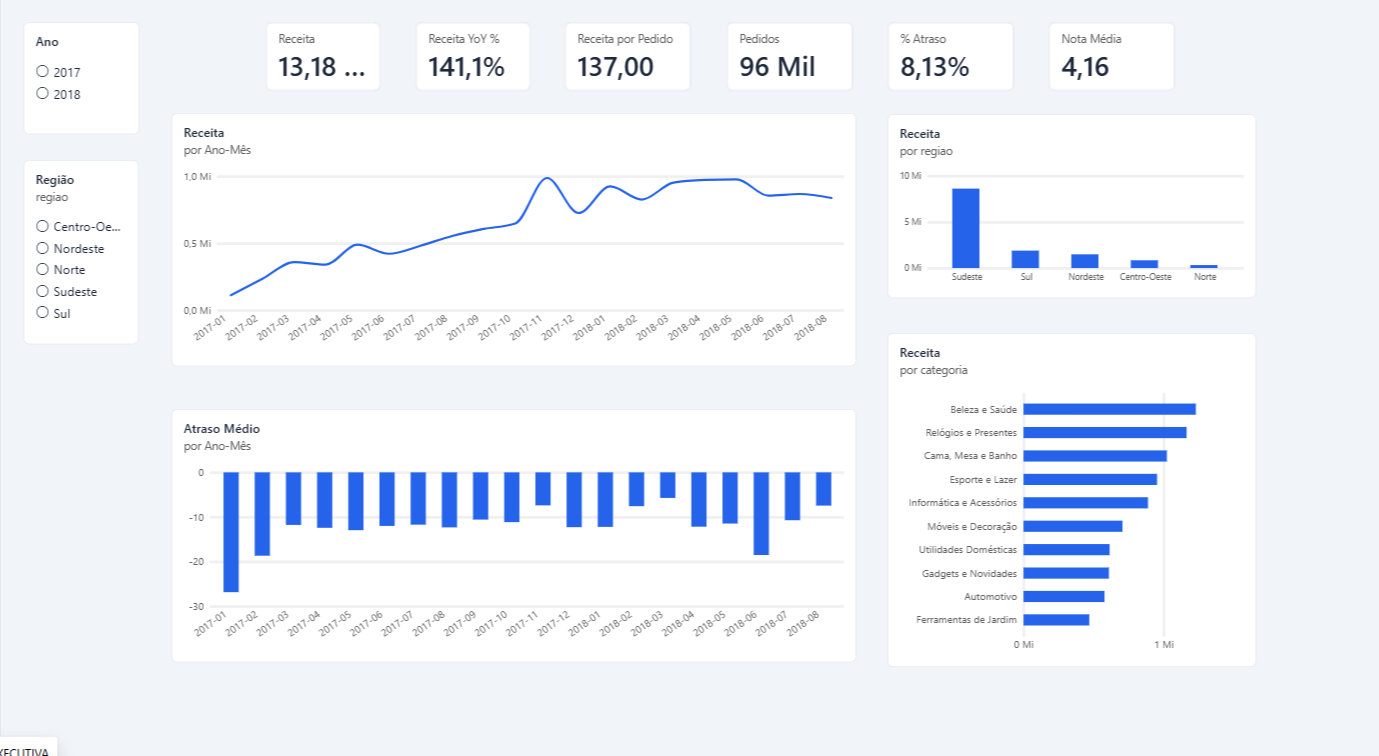

What the dashboard file says about the page in this screenshot:
{"tool":"powerbi","page":{"name":"VISÃO EXECUTIVA","canvas":[1920,1080],"ordinal":0},"visuals":[{"type":"cardVisual","title":"Receita","fields":{"Data":["_Medidas.Receita"]},"box":[368,48,160,96],"z":0},{"type":"cardVisual","title":"Pedidos","fields":{"Data":["_Medidas.Pedidos"]},"box":[1008,48,176,96],"z":1000},{"type":"lineChart","fields":{"Category":["dim_calendario.Ano-Mês"],"Y":["_Medidas.Receita"]},"box":[237.5,175.2,951.3,351.9],"z":2000},{"type":"barChart","fields":{"Category":["dim_produtos.categoria"],"Y":["_Medidas.Receita"]},"box":[1232,480,512,464],"z":3000},{"type":"columnChart","fields":{"Category":["dim_calendario.Ano-Mês"],"Y":["_Medidas.Atraso Médio"]},"box":[237.5,586.4,951.3,351.9],"z":4000},{"type":"cardVisual","title":"% Atrasados","fields":{"Data":["_Medidas.% Pedidos Atrasados"]},"box":[1232,48,176,96],"z":5000},{"type":"columnChart","fields":{"Category":["dim_uf.regiao"],"Y":["_Medidas.Receita"]},"box":[1232,176,512,256],"z":6000},{"type":"listSlicer","fields":{"Values":["dim_calendario.Ano"]},"box":[32,48,160.7,156.4],"z":7000},{"type":"listSlicer","title":"Região","fields":{"Values":["dim_uf.regiao"]},"box":[32,240,160,256],"z":8000},{"type":"cardVisual","title":"Crescimento da Receita","fields":{"Data":["_Medidas.Receita YoY %"]},"box":[576,48,160,96],"z":9000},{"type":"cardVisual","title":"Nota Média","fields":{"Data":["_Medidas.Nota Média"]},"box":[1456,48,176,96],"z":10000},{"type":"cardVisual","fields":{"Data":["_Medidas.Receita por Pedido"]},"box":[784,48,176,96],"z":11000}]}

Visuals, with their boxes on the page's 1920x1080 design canvas (x1, y1, x2, y2). These are canvas units, not pixel positions in the 1379x756 screenshot, which may show the page scaled, cropped or inside an application window:
"Receita" cardVisual: 368:48:528:144
"Pedidos" cardVisual: 1008:48:1184:144
lineChart - dim_calendario.Ano-Mês x _Medidas.Receita: 238:175:1189:527
barChart - dim_produtos.categoria x _Medidas.Receita: 1232:480:1744:944
columnChart - dim_calendario.Ano-Mês x _Medidas.Atraso Médio: 238:586:1189:938
"% Atrasados" cardVisual: 1232:48:1408:144
columnChart - dim_uf.regiao x _Medidas.Receita: 1232:176:1744:432
listSlicer - dim_calendario.Ano: 32:48:193:204
"Região" listSlicer: 32:240:192:496
"Crescimento da Receita" cardVisual: 576:48:736:144
"Nota Média" cardVisual: 1456:48:1632:144
cardVisual - _Medidas.Receita por Pedido: 784:48:960:144
